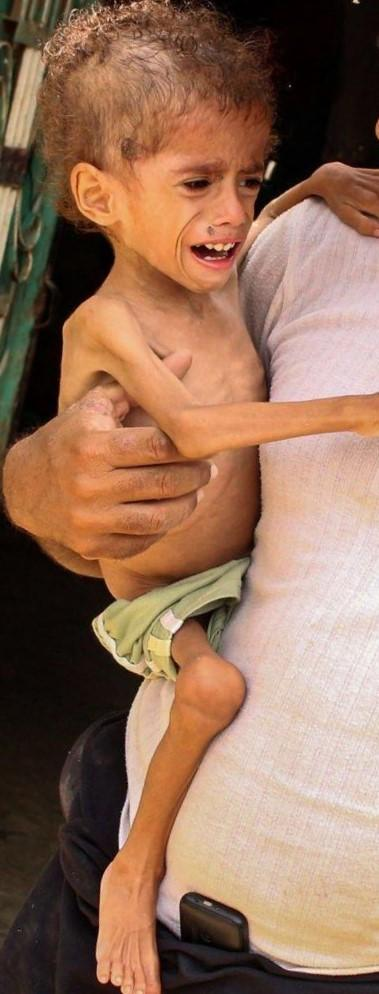Stunting: (12, 7, 290, 298)
